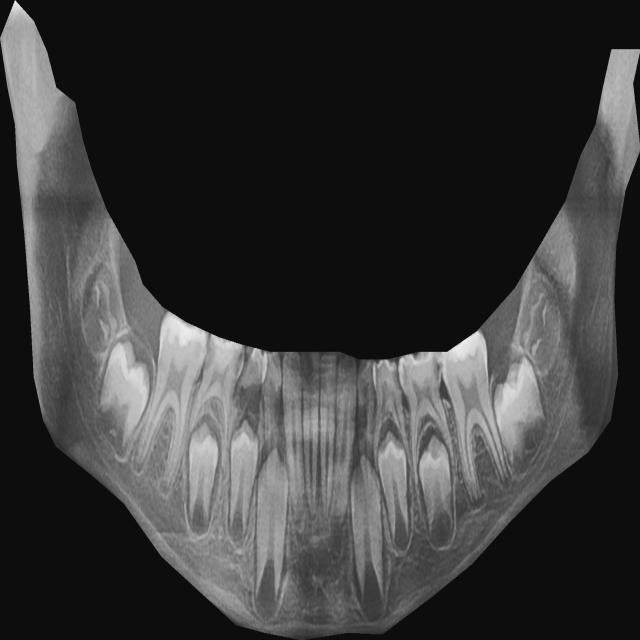mandibula: (0, 0, 640, 640)
